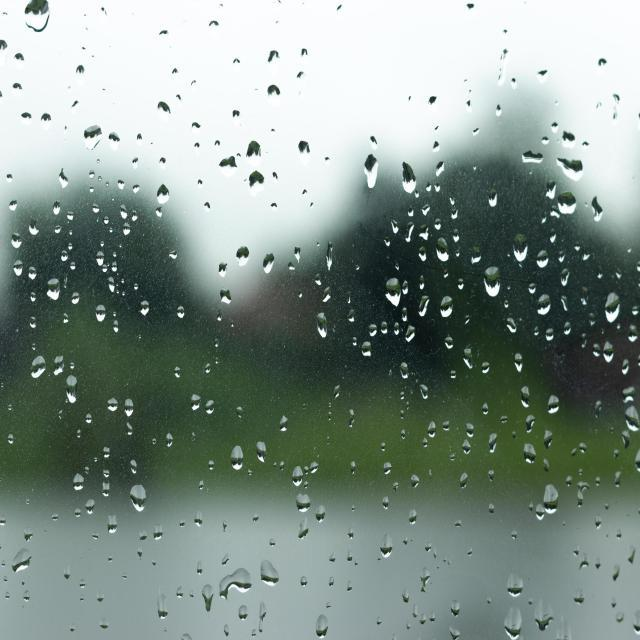raindrop: (12, 0, 62, 49), (549, 143, 593, 184), (119, 472, 152, 525), (4, 538, 40, 586), (502, 220, 532, 276), (248, 549, 282, 596), (552, 181, 588, 224), (215, 564, 258, 600), (480, 252, 504, 314), (361, 147, 388, 201), (536, 478, 565, 528), (598, 286, 624, 339), (26, 345, 54, 394), (238, 158, 270, 200), (57, 364, 84, 413), (515, 138, 545, 182), (498, 596, 528, 640), (504, 572, 536, 612), (79, 114, 107, 158), (528, 282, 558, 322), (534, 596, 560, 639), (435, 286, 462, 327), (396, 157, 421, 201), (40, 268, 66, 309), (432, 228, 455, 270), (227, 438, 250, 480), (292, 485, 318, 522), (381, 268, 404, 308), (154, 182, 178, 217), (625, 398, 640, 444), (233, 240, 253, 274)
